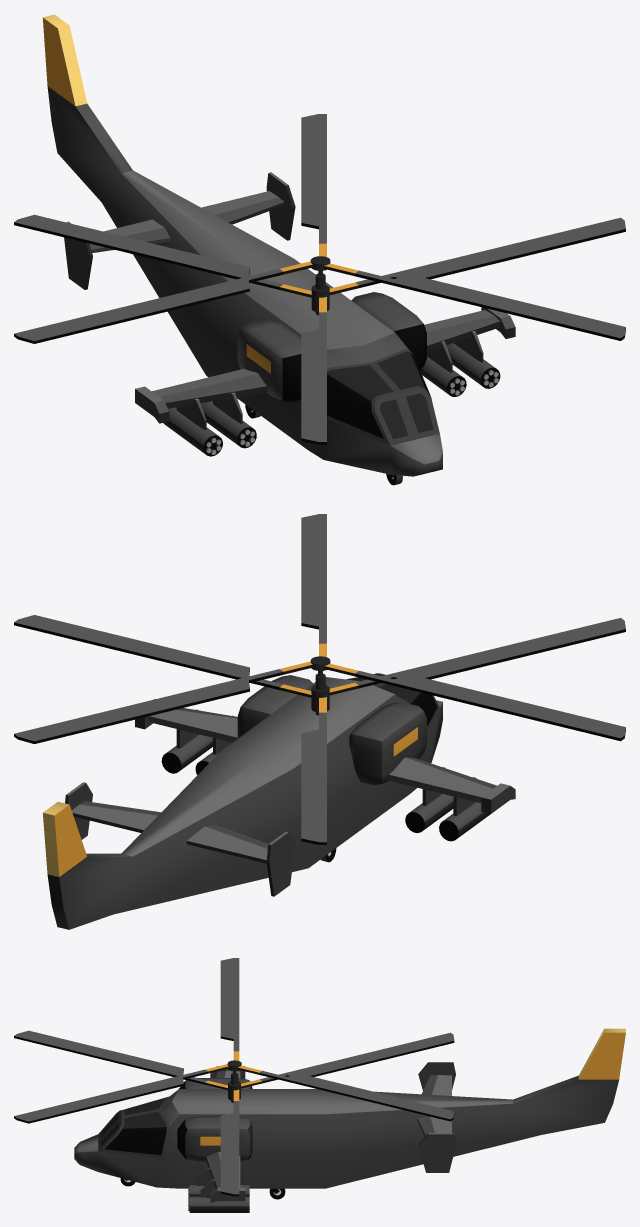
The model's file is Heli_2.fbx.
3 renders of one model, top to bottom at view 1: azimuth 30°, elevation 25°; view 2: azimuth 150°, elevation 25°; view 3: azimuth 270°, elevation 25°, orthographic. The views are drawn at different scales.
Visible parts, largest first — view 1: Body, Rotor_Twin_Upper, Rotor_Twin_Lower; view 2: Body, Rotor_Twin_Upper, Rotor_Twin_Lower; view 3: Body, Rotor_Twin_Upper, Rotor_Twin_Lower.
Part boxes in pixels (left/top/right/bottom): Body: left=42, top=14, right=515, bottom=485; Rotor_Twin_Upper: left=14, top=114, right=625, bottom=343; Rotor_Twin_Lower: left=14, top=214, right=625, bottom=444; Body: left=42, top=673, right=515, bottom=929; Rotor_Twin_Upper: left=14, top=514, right=625, bottom=743; Rotor_Twin_Lower: left=14, top=615, right=625, bottom=844; Body: left=74, top=1028, right=625, bottom=1212; Rotor_Twin_Upper: left=14, top=958, right=454, bottom=1123; Rotor_Twin_Lower: left=14, top=1030, right=454, bottom=1196.
Bounding box in the file's own units: 14.48 × 4.9 × 17.57.
